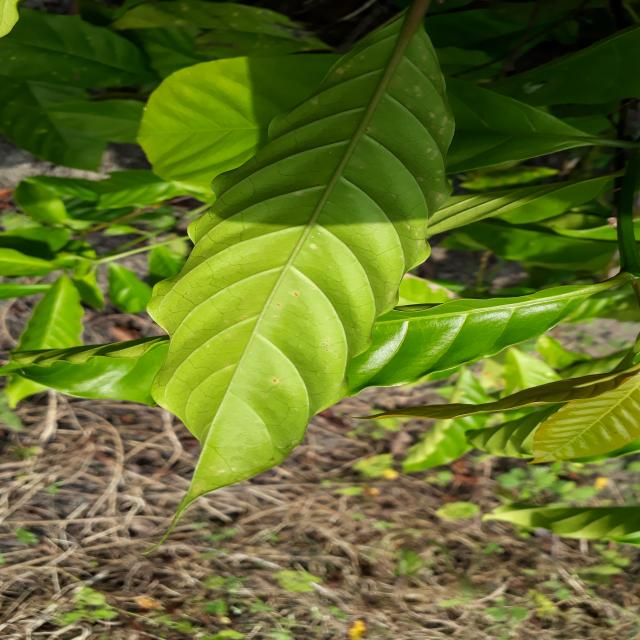Enfermedad-Roya: (151, 4, 445, 495)
